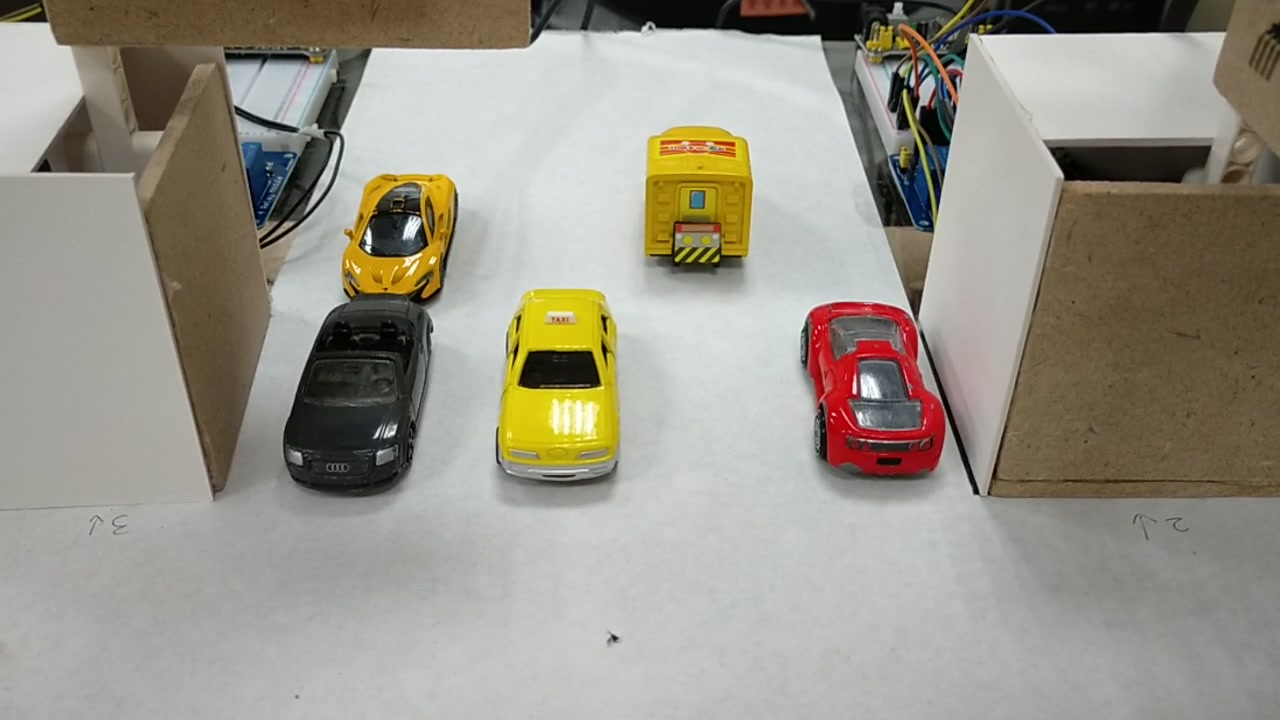car: (286, 294, 430, 485), (805, 295, 940, 479), (499, 282, 616, 478), (346, 175, 450, 289)
